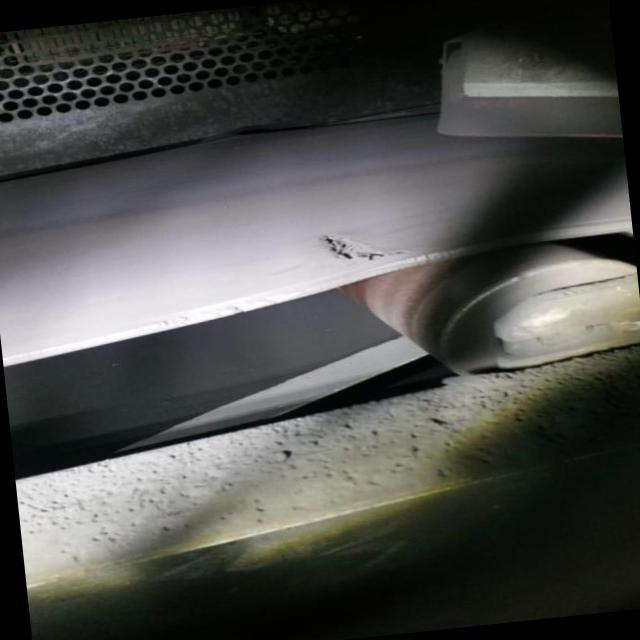Tear: (311, 223, 418, 269)
